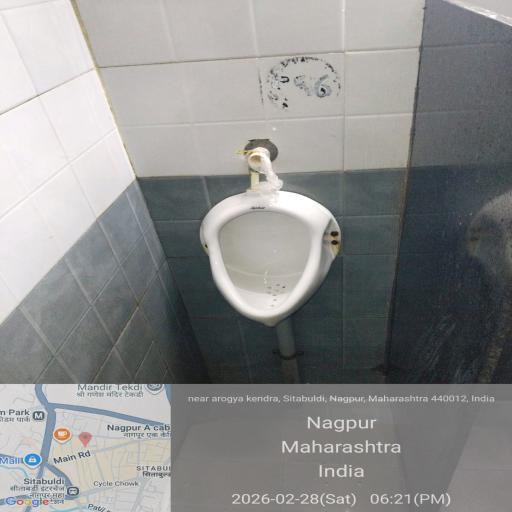clean_floor: (4, 6, 493, 170), (0, 189, 190, 374), (344, 190, 509, 369)
clean_urinal: (194, 194, 331, 324)
